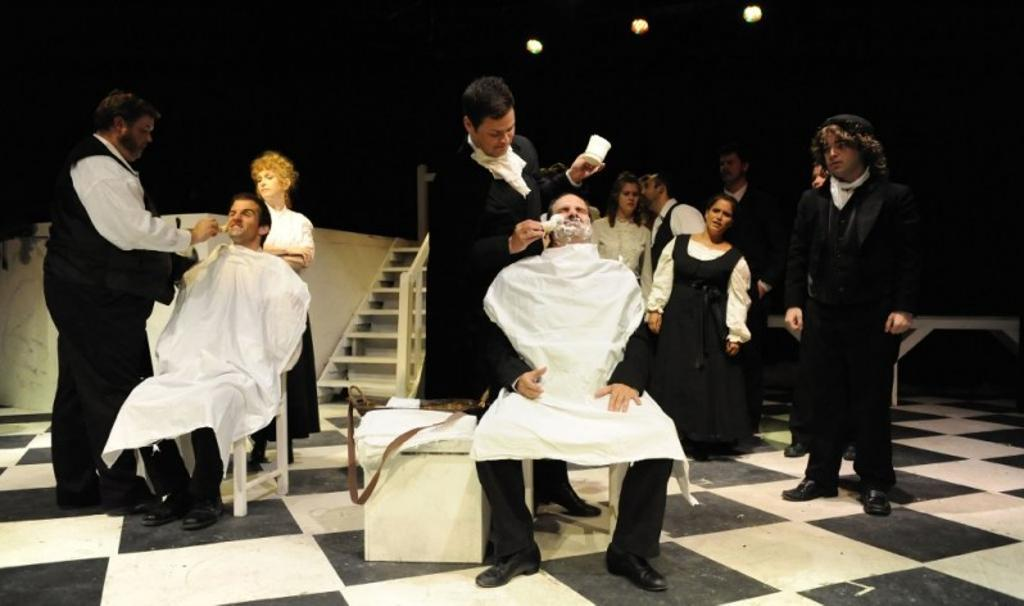face: (479, 111, 516, 157), (824, 132, 856, 175), (125, 114, 155, 158), (553, 200, 589, 235), (228, 202, 260, 237), (708, 200, 733, 233), (257, 168, 282, 196), (637, 179, 657, 209), (813, 167, 833, 195), (720, 156, 741, 182), (620, 184, 640, 211)
